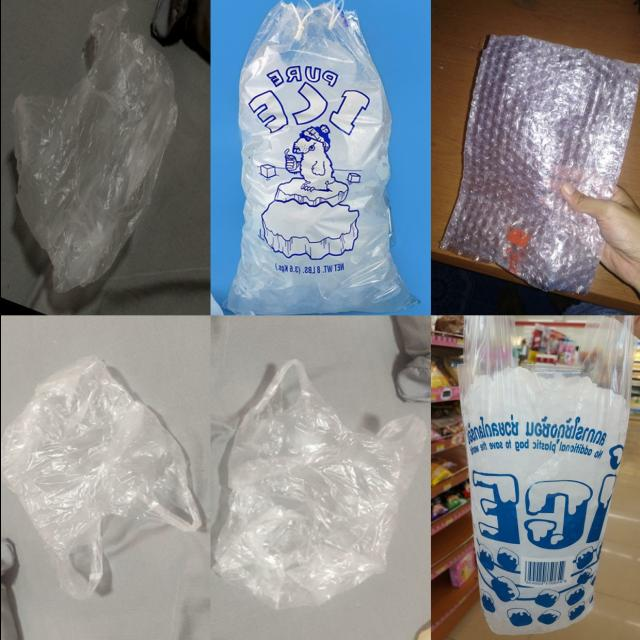plastik: (227, 0, 417, 314), (460, 316, 632, 635), (213, 360, 426, 610), (440, 35, 640, 294), (0, 356, 201, 599), (12, 3, 176, 292)
